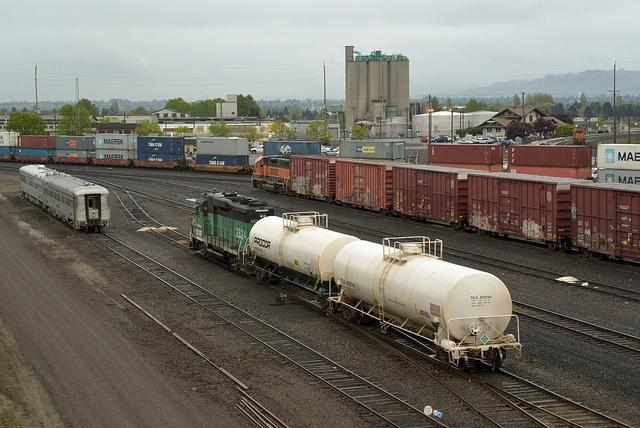car: (457, 139, 474, 144)
truck: (438, 135, 452, 140)
